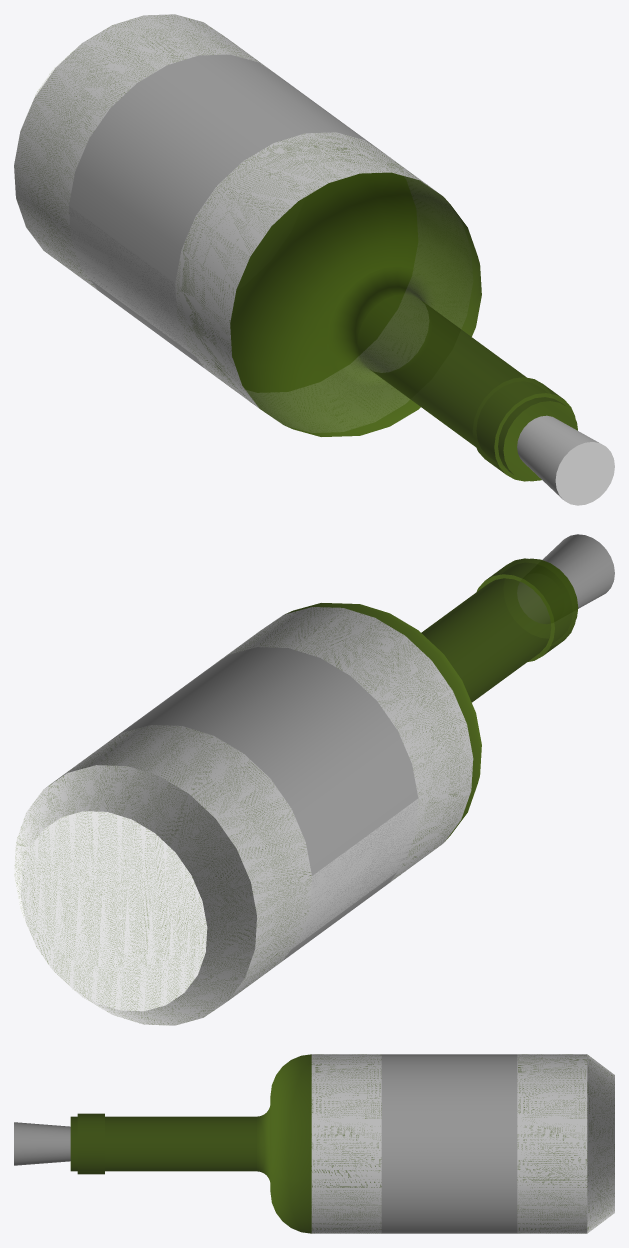
The model's file is model_align.obj.
3 views of the same model, one above another, from view 1: azimuth 30°, elevation 25°; view 2: azimuth 150°, elevation 25°; view 3: azimuth 270°, elevation 25° (orthographic). The views are drawn at different scales.
Visible parts, largest first — view 1: mesh1_mesh1-geometry, mesh4_mesh4-geometry, mesh2_mesh2-geometry, mesh3_mesh3-geometry; view 2: mesh2_mesh2-geometry, mesh4_mesh4-geometry, mesh1_mesh1-geometry, mesh3_mesh3-geometry; view 3: mesh1_mesh1-geometry, mesh4_mesh4-geometry, mesh2_mesh2-geometry, mesh3_mesh3-geometry.
Boxes of the visible parts, bbox=[...] form: mesh1_mesh1-geometry: bbox=[175, 132, 577, 481]; mesh4_mesh4-geometry: bbox=[69, 54, 384, 367]; mesh2_mesh2-geometry: bbox=[14, 14, 279, 290]; mesh3_mesh3-geometry: bbox=[517, 415, 614, 505]; mesh2_mesh2-geometry: bbox=[14, 725, 311, 1025]; mesh4_mesh4-geometry: bbox=[102, 647, 418, 960]; mesh1_mesh1-geometry: bbox=[208, 558, 578, 882]; mesh3_mesh3-geometry: bbox=[517, 534, 614, 623]; mesh1_mesh1-geometry: bbox=[70, 1054, 381, 1233]; mesh4_mesh4-geometry: bbox=[381, 1054, 517, 1233]; mesh2_mesh2-geometry: bbox=[517, 1054, 614, 1233]; mesh3_mesh3-geometry: bbox=[14, 1122, 70, 1165].
Bounding box in the file's own units: 0.0723 × 0.0723 × 0.2427.
